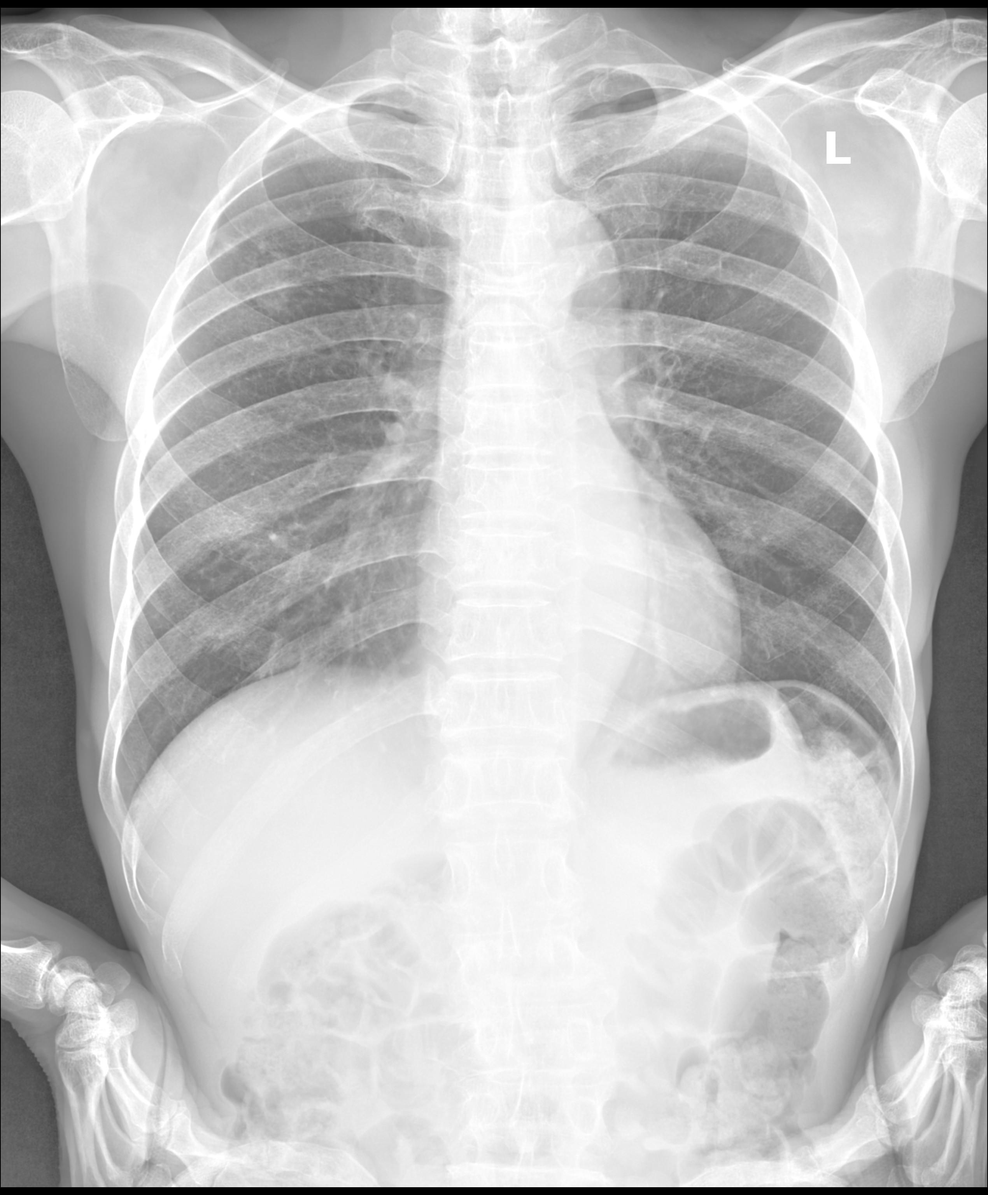Aortic enlargement: (497, 192, 625, 331)
Pleural thickening: (362, 78, 416, 96)
Pulmonary fibrosis: (219, 228, 333, 317)
